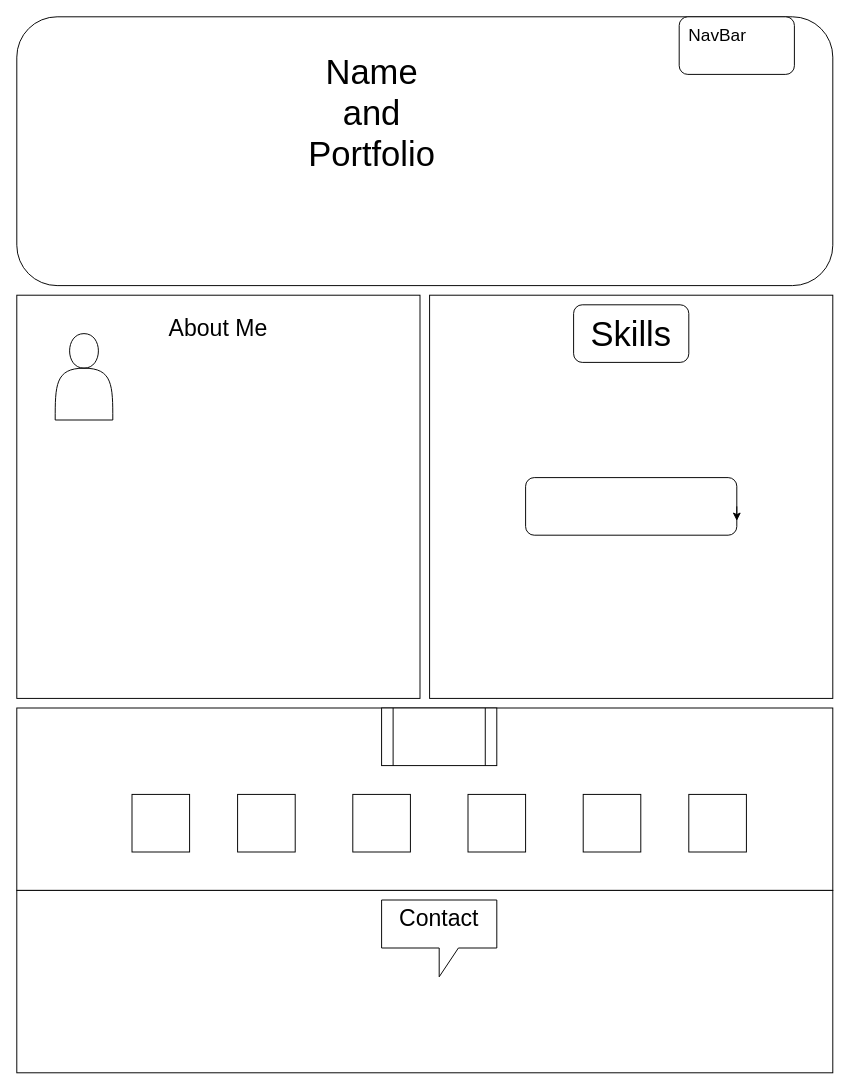
Image size: 850x1090. Some labels were removed from this diagram. Here are the shapes that lost their labels. From the top down, the box of each, then its label:
(525, 477, 737, 535): Philosophy
(381, 707, 497, 766): Projects
